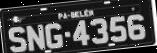placa_antiga: (0, 0, 154, 53)
